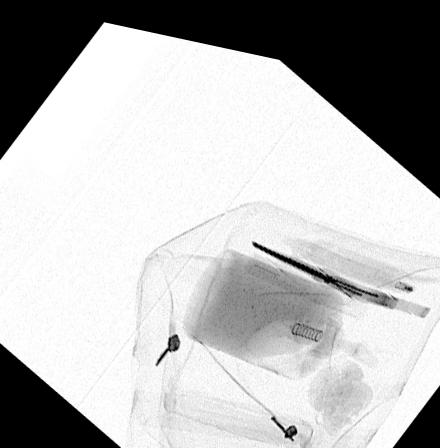Scissors: (245, 221, 435, 304)
